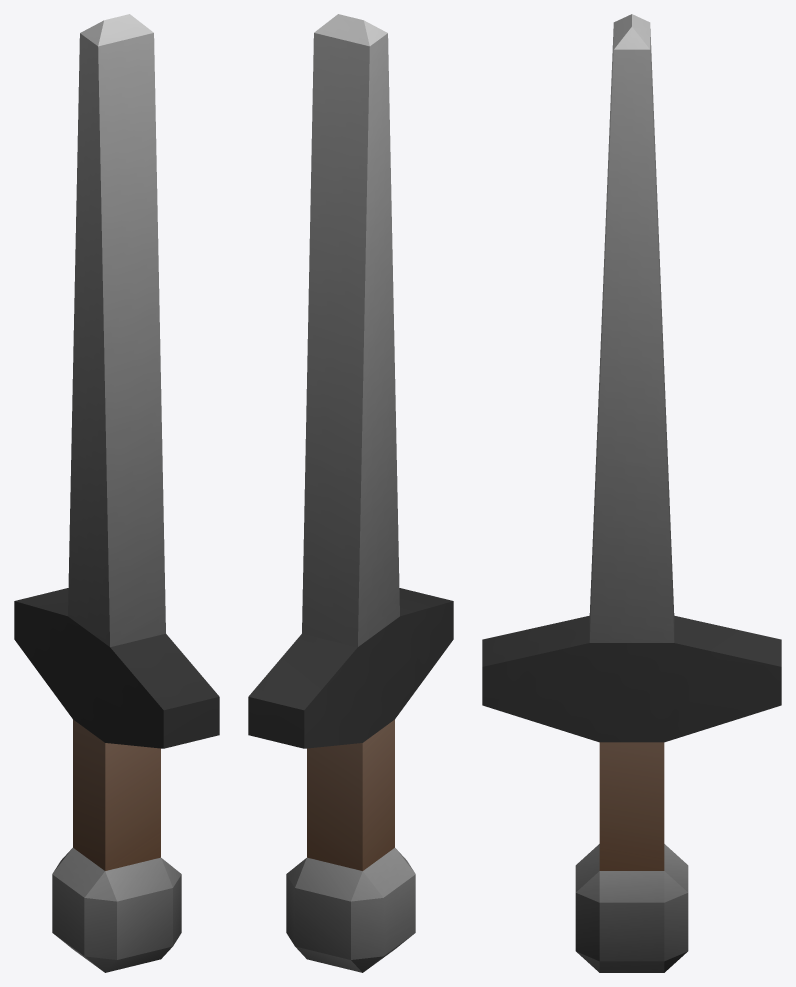
File: Dagger.glb
The picture shows the model from 3 angles, left to right: view 1: azimuth 30°, elevation 25°; view 2: azimuth 150°, elevation 25°; view 3: azimuth 270°, elevation 25°; orthographic projection.
Parts seen in each view (by area): view 1: Cube; view 2: Cube; view 3: Cube.
Boxes of the visible parts, <box> form: Cube: <box>14,14,219,972</box>; Cube: <box>248,14,453,972</box>; Cube: <box>482,14,781,972</box>.
Size of the model in its own units: 0.576 by 5.3 by 1.53.
1 material, 1 textured.
